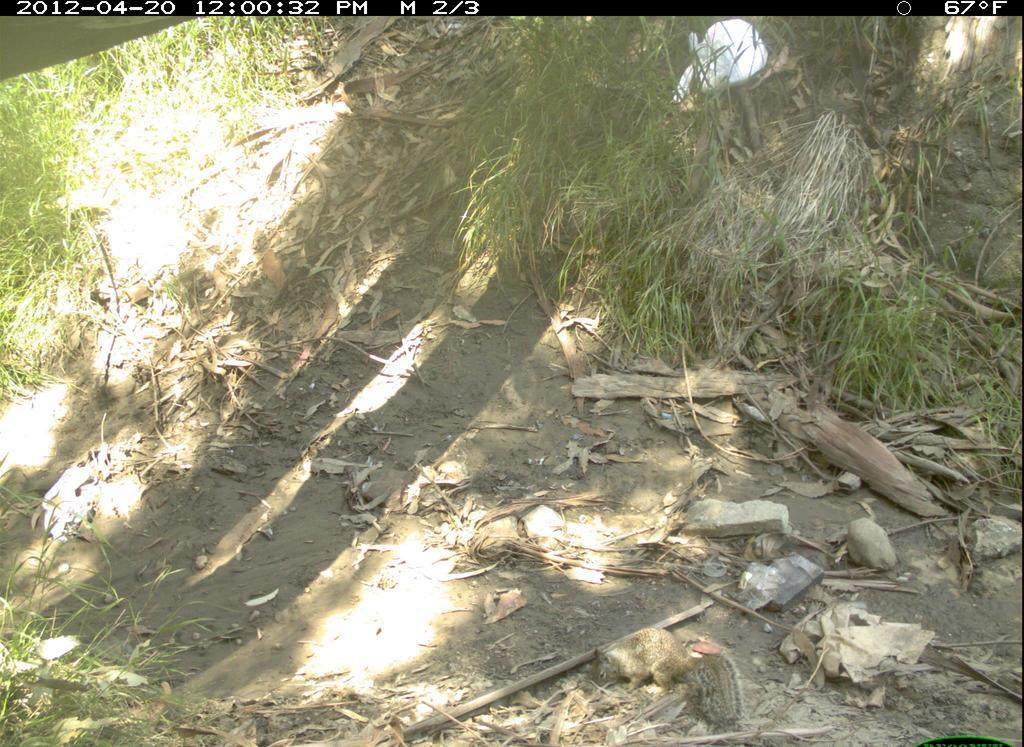squirrel: (583, 623, 758, 729)
